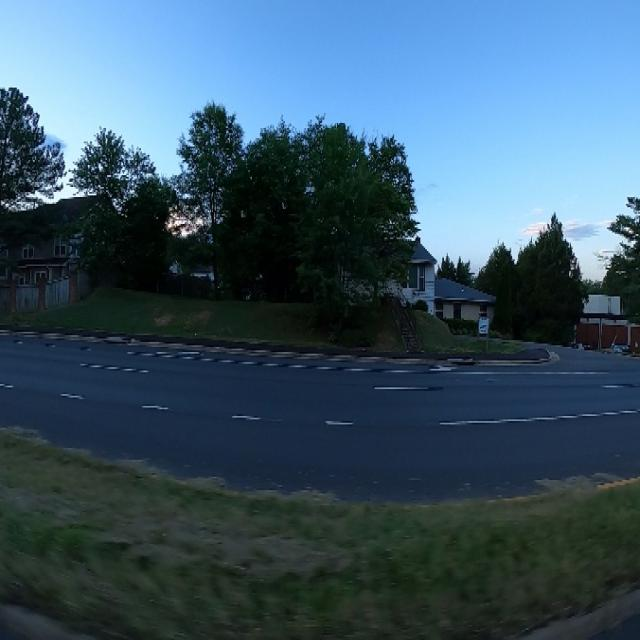cars: (613, 337, 629, 361)
